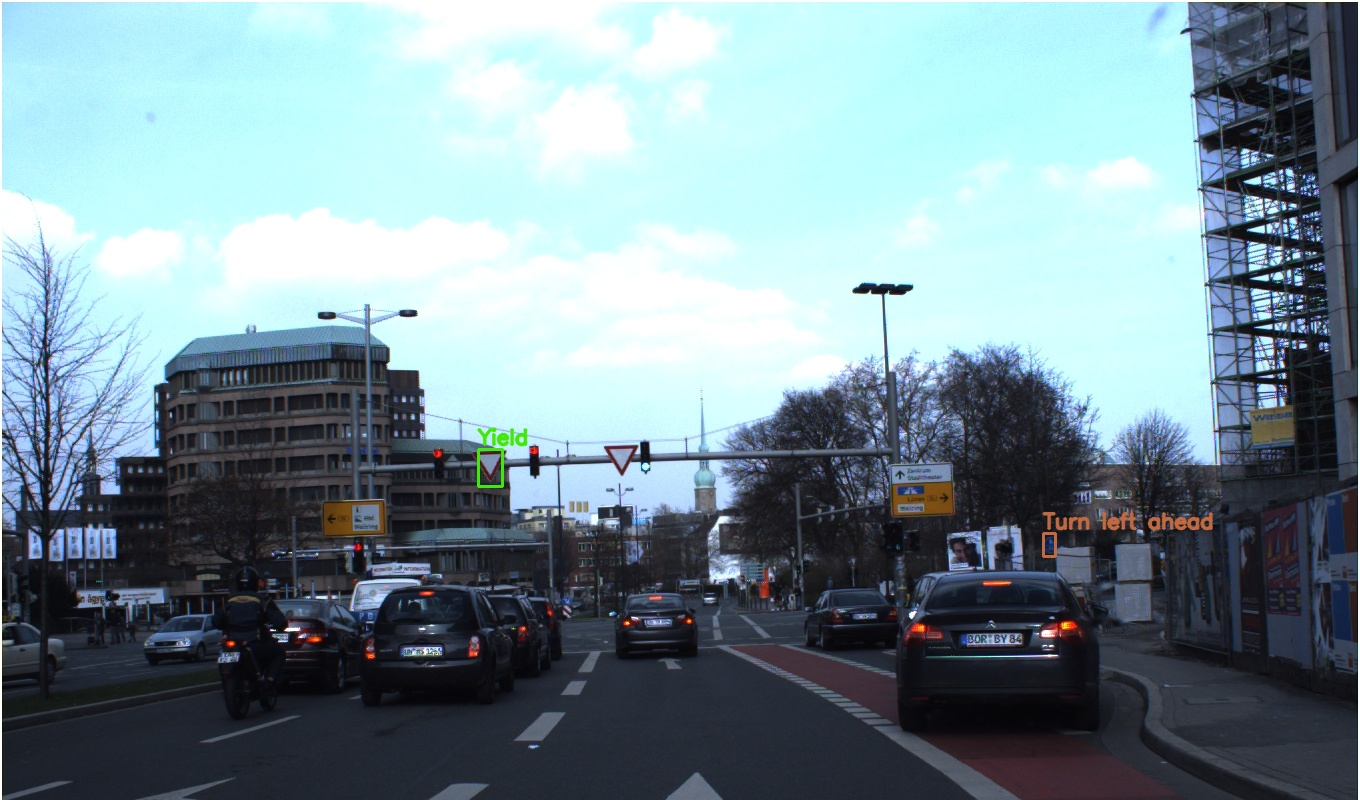Right-of-way at the next intersection: (824, 324, 892, 384)
